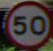Speed limit: (3, 2, 50, 45)
